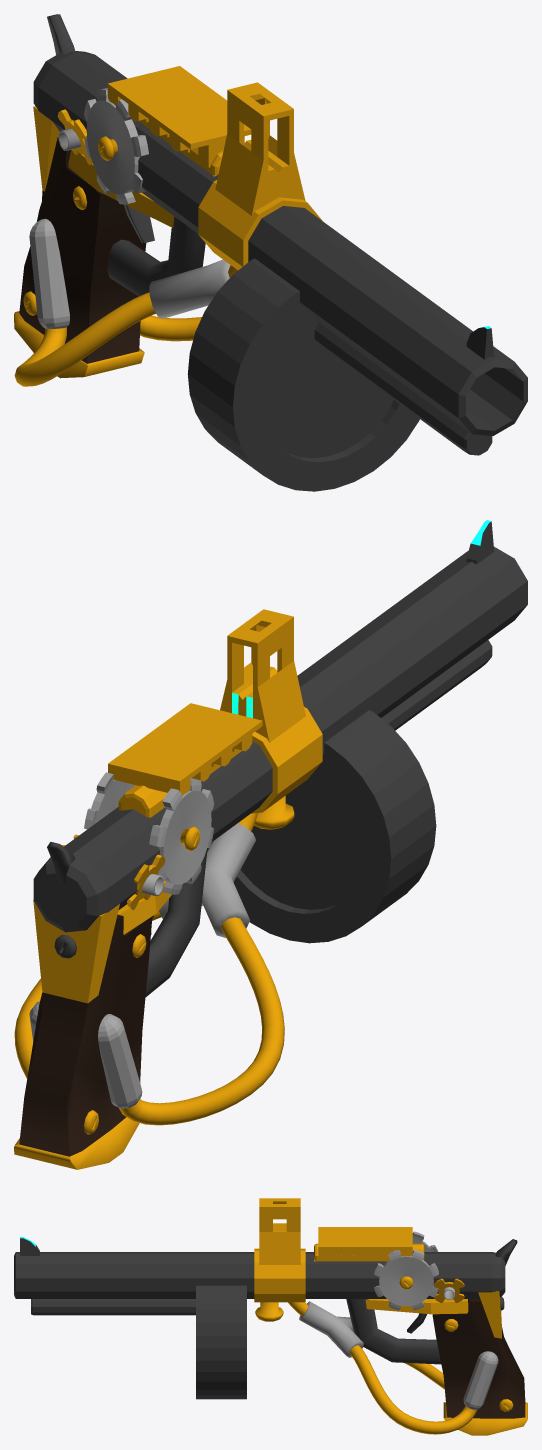
File: SteamPunkGun.fbx
3 views of the same model, one above another, from view 1: azimuth 30°, elevation 25°; view 2: azimuth 150°, elevation 25°; view 3: azimuth 270°, elevation 25° (orthographic). The views are drawn at different scales.
Parts seen in each view (by area): view 1: Canon, Cylinder, HandGrip.001, Sponge.001, Cylinder.003, BézierCurve, Gear.002, Cylinder.005, BézierCurve.002, Sphere, Wye Joint, Cube.004 (+5 smaller); view 2: Canon, Cylinder, HandGrip.001, Cylinder.003, BézierCurve, Sponge.001, Gear.002, Cube.003, Wye Joint, BézierCurve.002, Sphere, Cylinder.005 (+3 smaller); view 3: Canon, HandGrip.001, Cylinder, Cylinder.003, Gear.002, Cylinder.005, Sponge.001, BézierCurve.002, BézierCurve, Wye Joint, Sphere, Cube.004 (+4 smaller).
Part boxes in pixels (x1,y1,x2,y2): Canon: (33,51,527,435); Cylinder: (187,258,419,491); HandGrip.001: (14,137,146,378); Sponge.001: (215,82,305,215); Cylinder.003: (107,66,251,176); BézierCurve: (14,292,201,386); Gear.002: (84,88,148,204); Cylinder.005: (314,322,492,455); BézierCurve.002: (107,216,205,296); Sphere: (29,218,69,328); Wye Joint: (149,259,230,318); Cube.004: (68,150,174,227); Canon: (33,546,527,932); Cylinder: (207,710,436,943); HandGrip.001: (14,914,153,1169); Cylinder.003: (108,703,262,817); BézierCurve: (14,911,284,1125); Sponge.001: (220,609,305,742); Gear.002: (84,772,214,894); Cube.003: (33,900,119,1003); Wye Joint: (159,823,255,937); BézierCurve.002: (145,848,207,997); Sphere: (29,1001,142,1108); Cylinder.005: (381,640,492,730); Canon: (14,1248,505,1302); HandGrip.001: (432,1299,527,1435); Cylinder: (196,1285,246,1399); Cylinder.003: (314,1227,424,1261); Gear.002: (374,1231,438,1310); Cylinder.005: (31,1299,195,1315); Sponge.001: (259,1198,300,1264); BézierCurve.002: (346,1299,441,1364); BézierCurve: (350,1345,477,1434); Wye Joint: (299,1301,363,1357); Sphere: (463,1351,498,1409); Cube.004: (365,1299,468,1314).
Bounding box in the file's own units: 12.64 × 19.03 × 39.55.
